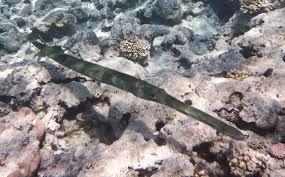Fistularia commersonii: (29, 27, 254, 151)
